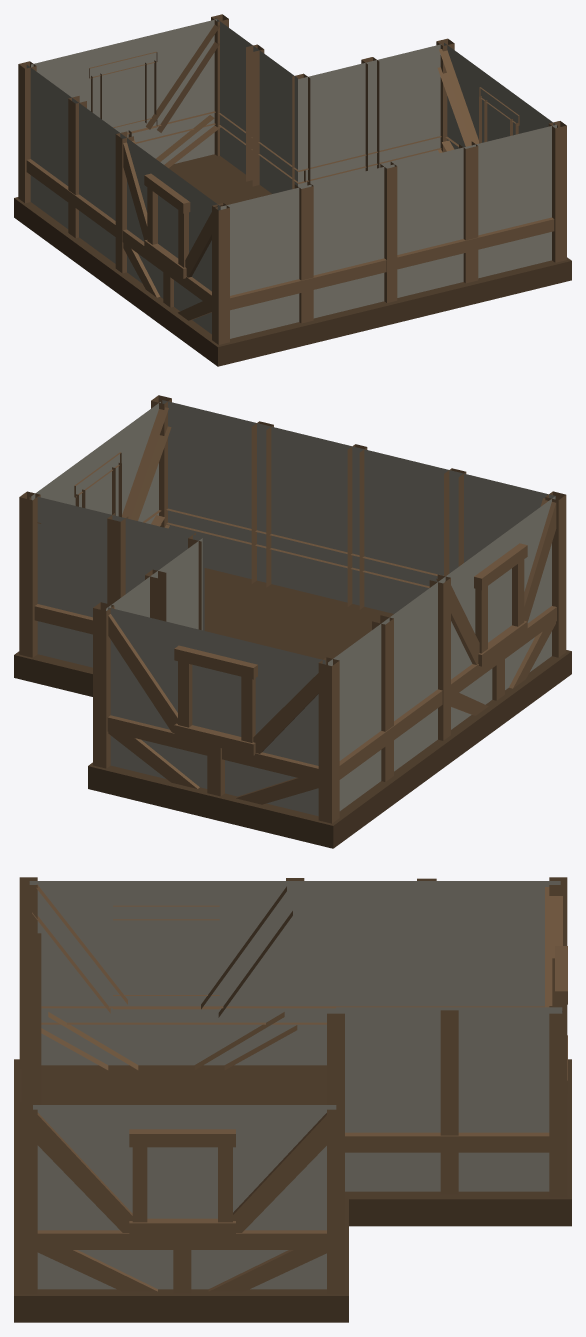
Rendered from M_House_2F.fbx.
The picture shows the model from 3 angles, top to bottom: view 1: azimuth 30°, elevation 25°; view 2: azimuth 150°, elevation 25°; view 3: azimuth 270°, elevation 25°; orthographic projection. The views are drawn at different scales.
Visible parts, largest first — view 1: pCube3 (×2), pCube4 (×2), pCube163, pCube5, pCube6, pCube22 (×2), pCube42 (×3), pCube32 (×2), pCube18, pCube7, pCube49, pCube17 (+15 smaller); view 2: pCube3 (×2), pCube163, pCube5, pCube4 (×2), pCube42 (×3), pCube22 (×2), pCube32 (×2), pCube6, pCube17, pCube21, pCube14, pCube40 (×2) (+21 smaller); view 3: pCube3, pCube4, pCube163, pCube6, pCube19, pCube20, pCube40 (×2), pCube7, pCube16, pCube14, pCube49, pCube69 (+17 smaller).
Boxes of the visible parts, <box> form: pCube3 (×2): <box>26,65,556,338</box>; pCube4 (×2): <box>298,43,554,187</box>; pCube163: <box>14,154,571,366</box>; pCube5: <box>31,19,217,164</box>; pCube6: <box>215,18,297,193</box>; pCube22 (×2): <box>26,159,554,310</box>; pCube42 (×3): <box>68,96,478,323</box>; pCube32 (×2): <box>115,131,397,302</box>; pCube18: <box>212,203,229,344</box>; pCube7: <box>548,121,566,262</box>; pCube49: <box>246,44,264,186</box>; pCube17: <box>18,61,36,203</box>; pCube3 (×2): <box>162,400,555,810</box>; pCube163: <box>14,568,571,848</box>; pCube5: <box>107,607,325,816</box>; pCube4 (×2): <box>31,402,204,667</box>; pCube42 (×3): <box>251,421,466,781</box>; pCube22 (×2): <box>166,508,556,779</box>; pCube32 (×2): <box>347,444,450,740</box>; pCube6: <box>106,538,202,630</box>; pCube17: <box>318,657,339,823</box>; pCube21: <box>107,715,318,782</box>; pCube14: <box>19,491,40,657</box>; pCube40 (×2): <box>122,407,479,664</box>; pCube3: <box>29,881,560,1065</box>; pCube4: <box>33,1105,336,1289</box>; pCube163: <box>14,1059,571,1322</box>; pCube6: <box>336,1007,562,1191</box>; pCube19: <box>37,1230,326,1249</box>; pCube20: <box>345,1132,549,1152</box>; pCube40 (×2): <box>37,886,292,1232</box>; pCube7: <box>19,1102,37,1293</box>; pCube16: <box>549,1006,567,1197</box>; pCube14: <box>327,1102,344,1293</box>; pCube49: <box>440,1010,458,1194</box>; pCube69: <box>233,1113,326,1232</box>.
Bounding box in the file's own units: 6.18 × 2.57 × 6.16.
